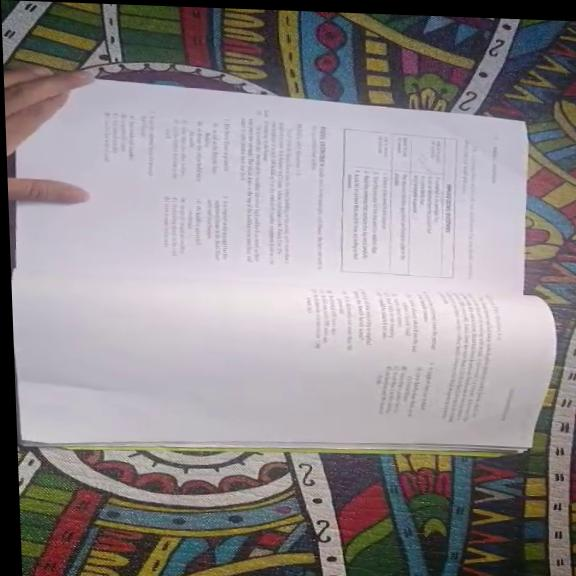Kertas: (10, 274, 524, 452), (87, 108, 524, 294)
